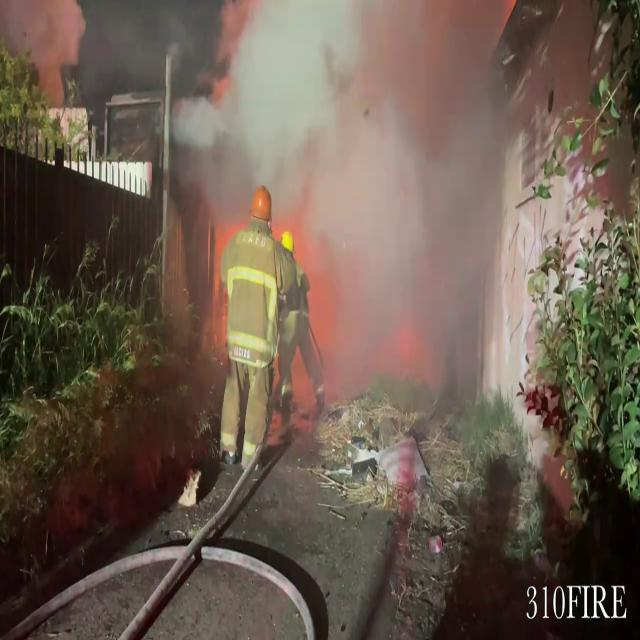Smoke: (195, 0, 529, 328)
